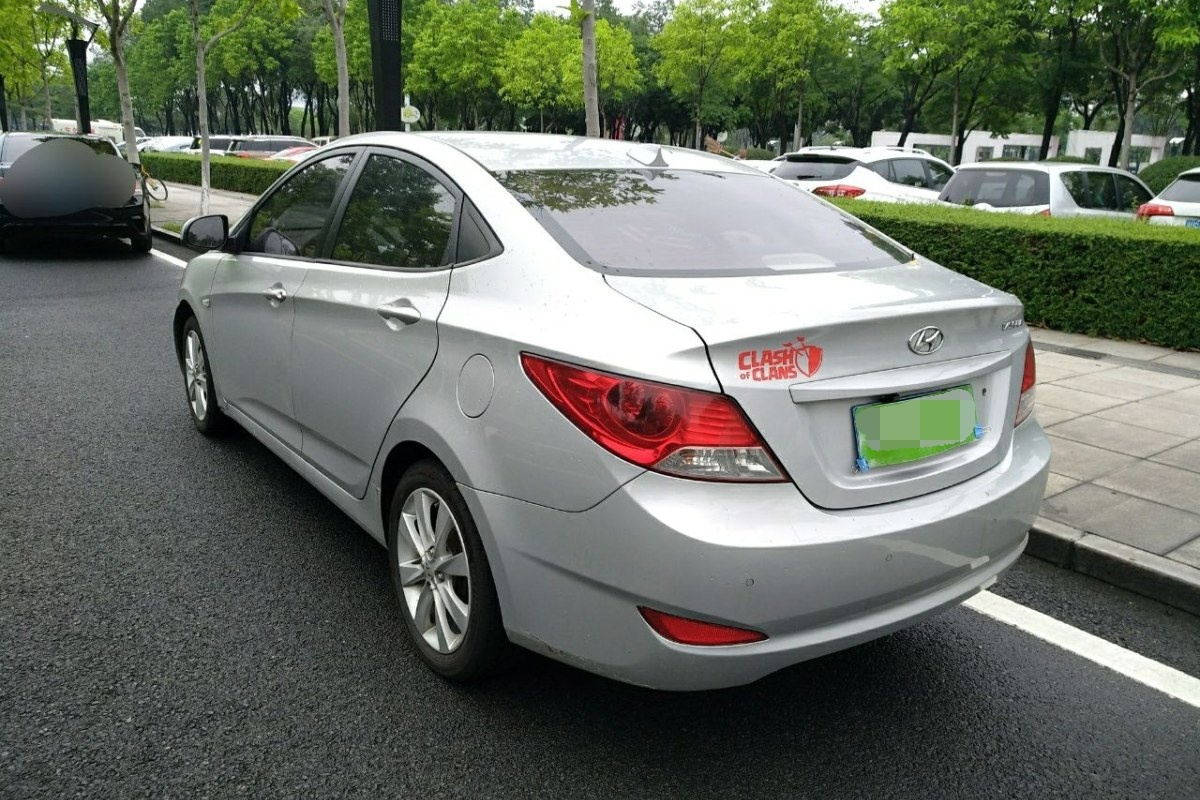family sedan: (162, 101, 1046, 711)
